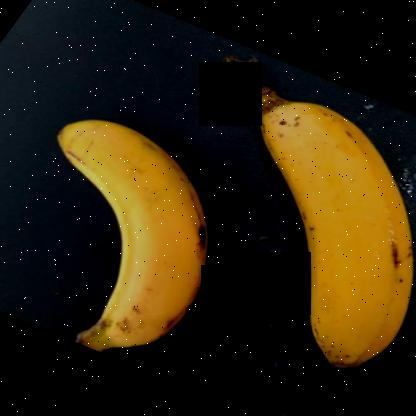freshripe: (1, 70, 232, 366), (219, 59, 415, 376)
